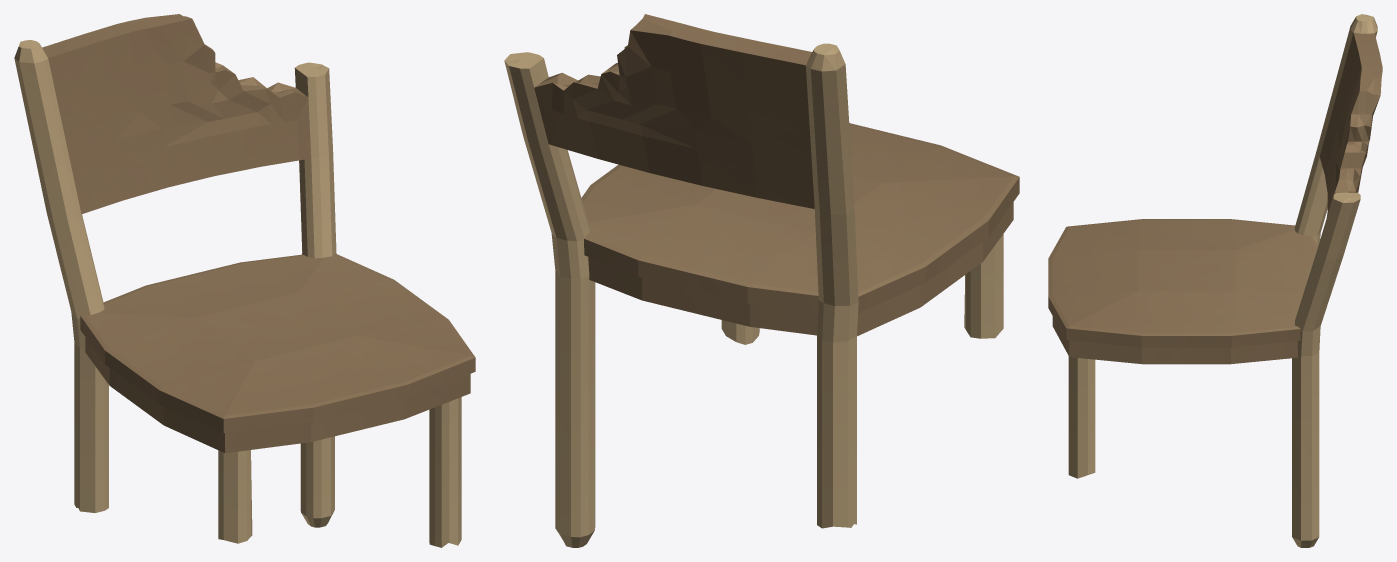
File: chair_1_destroyed_2.dae
3 views of the same model, side by side, from view 1: azimuth 30°, elevation 25°; view 2: azimuth 150°, elevation 25°; view 3: azimuth 270°, elevation 25° (orthographic). The views are drawn at different scales.
Visible parts, largest first — view 1: chair_1_destroyed_2; view 2: chair_1_destroyed_2; view 3: chair_1_destroyed_2.
Part boxes in pixels (left/top/right/bottom): chair_1_destroyed_2: left=14, top=14, right=475, bottom=547; chair_1_destroyed_2: left=504, top=14, right=1019, bottom=547; chair_1_destroyed_2: left=1048, top=14, right=1382, bottom=547.
Size of the model in its own units: 0.4601 by 0.5374 by 0.7549.
